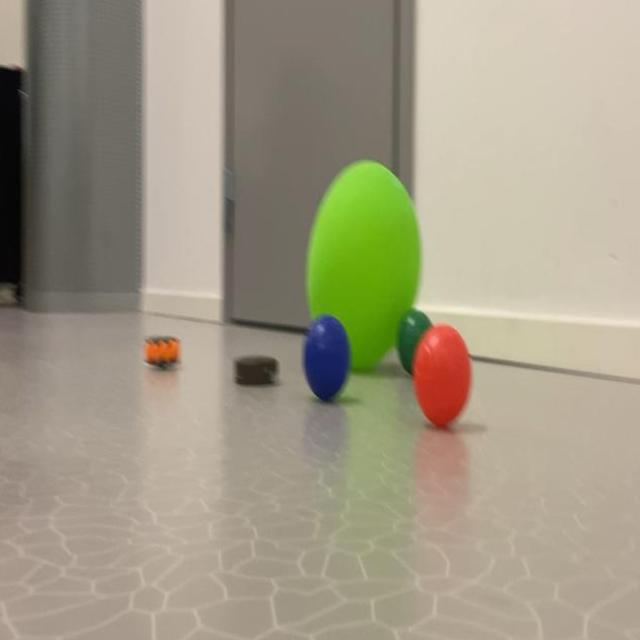blue ball: (302, 331, 348, 401)
green ball: (401, 309, 432, 337)
red ball: (414, 342, 476, 430)
